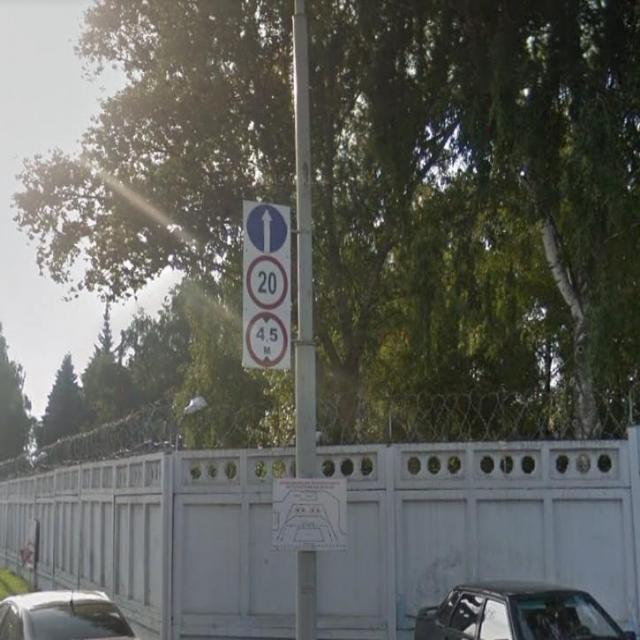traffic_sign: (243, 252, 293, 310)
